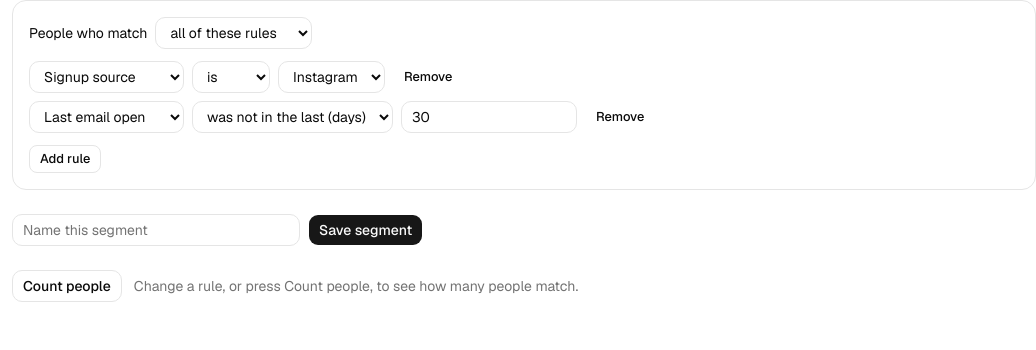
Scenario: SegmentBuilder › shows the server's errors instead of a count
Click the button "Count people".
click(67, 286)  # box [12,270,122,302]
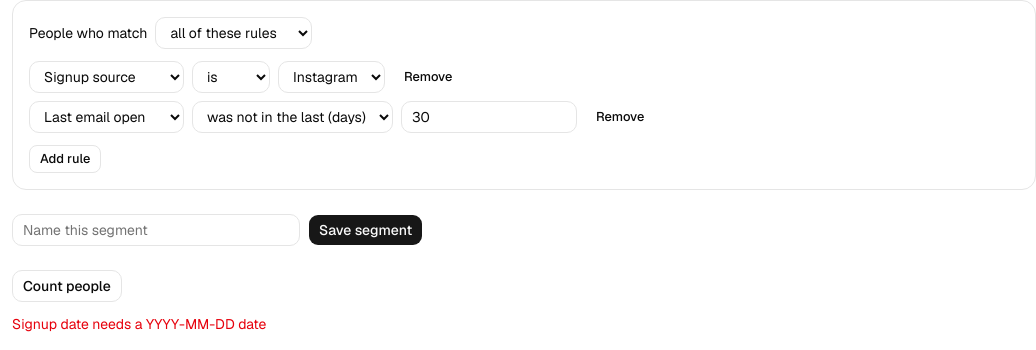
Expected: the message reads "Signup date needs a YYYY-MM-DD date", [12,315,266,333]
